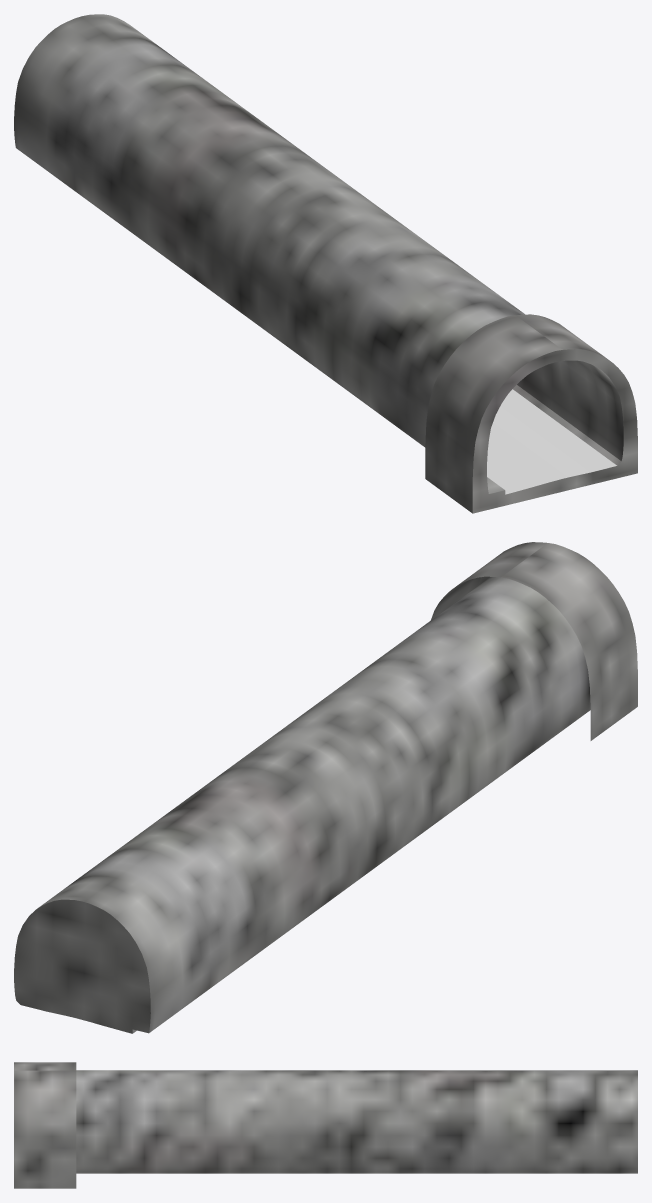
The model's file is Tunnel United.fbx.
3 renders of one model, top to bottom at view 1: azimuth 30°, elevation 25°; view 2: azimuth 150°, elevation 25°; view 3: azimuth 270°, elevation 25°, orthographic. The views are drawn at different scales.
Visible parts, largest first — view 1: Tunnel United; view 2: Tunnel United; view 3: Tunnel United.
Part boxes in pixels (box(x1,y1,x2,y2)): Tunnel United: box(14, 14, 637, 513); Tunnel United: box(14, 542, 637, 1033); Tunnel United: box(14, 1062, 637, 1188).
Size of the model in its own units: 1009 by 831 by 5000.
